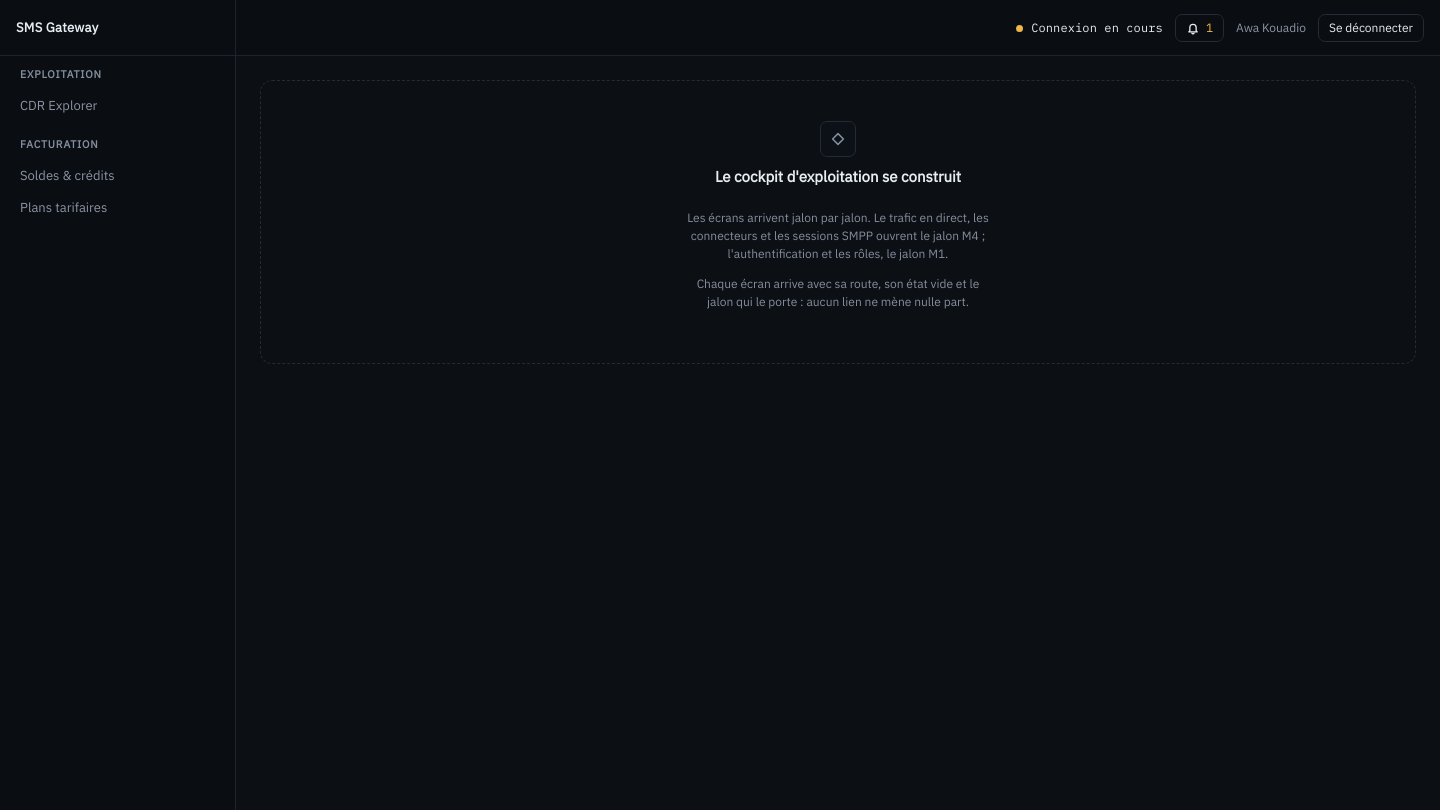
Test case: the notification center › shows the server’s refusal when marking a notification fails
The width and height of the screenshot is (1440, 810).
Click the button named "Notifications".
click(1200, 28)  # box [1175,14,1224,42]
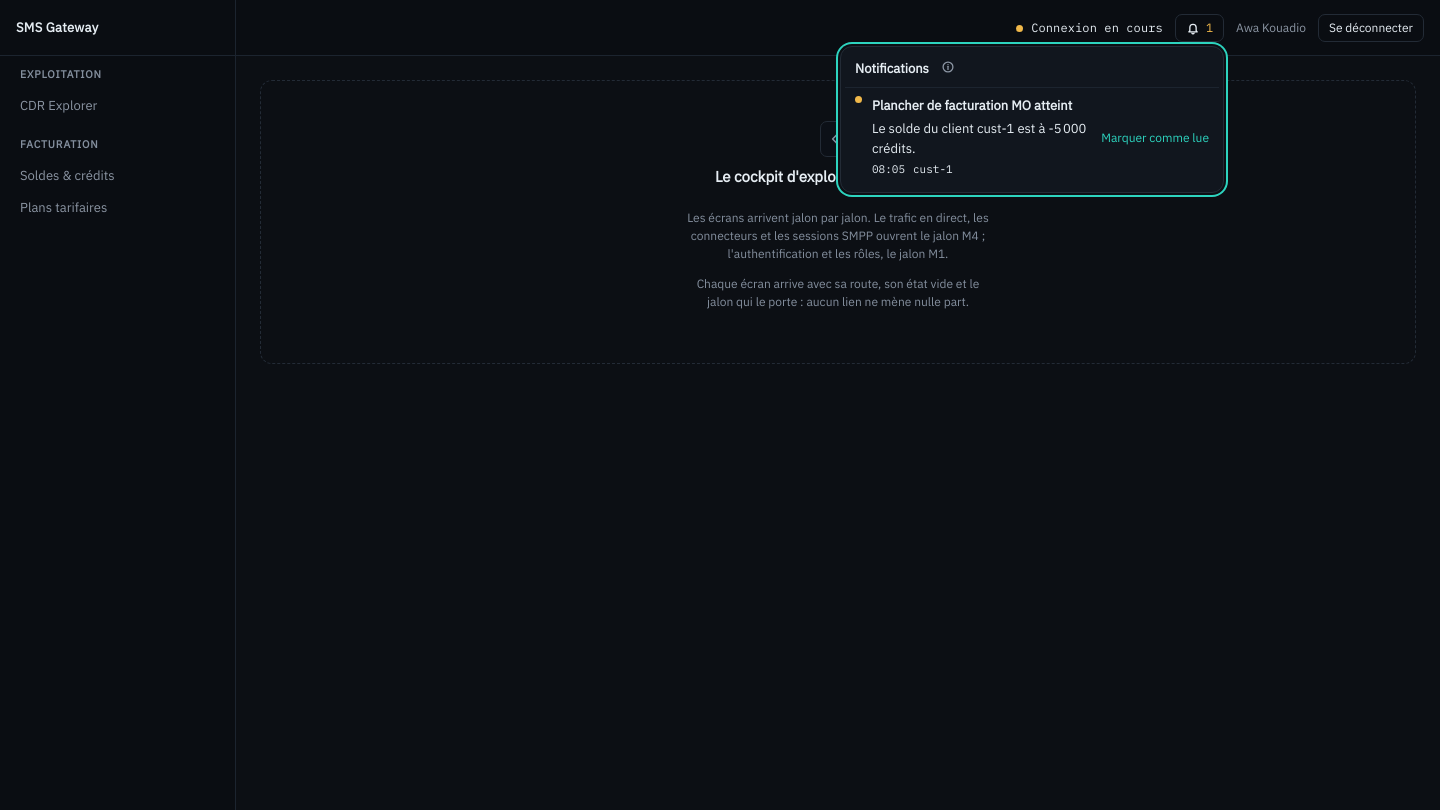
Click the button "Marquer comme lue".
click(1155, 138)  # box [1101,96,1209,180]
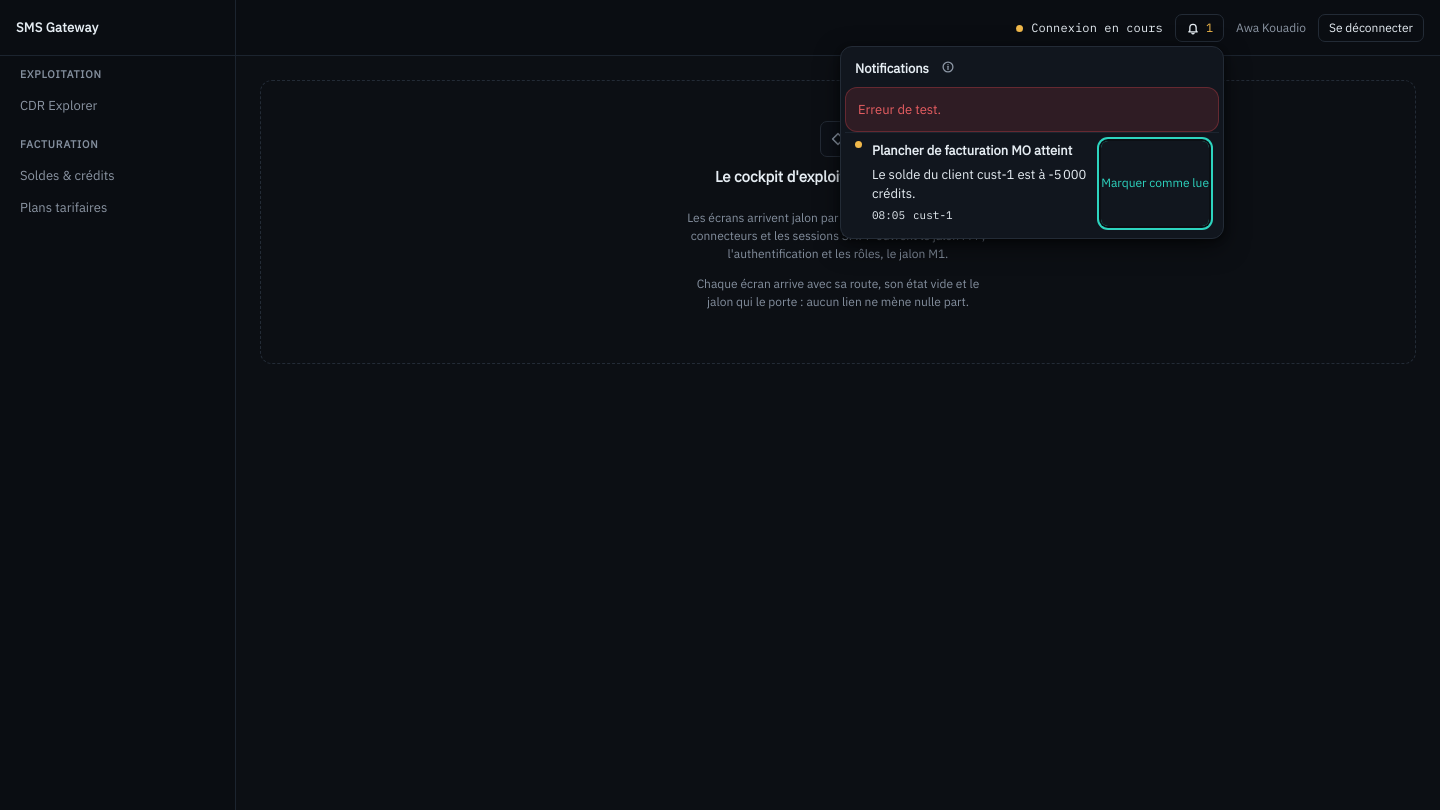
Expected: the text "Erreur de test." is shown, [845,86,1219,132]
